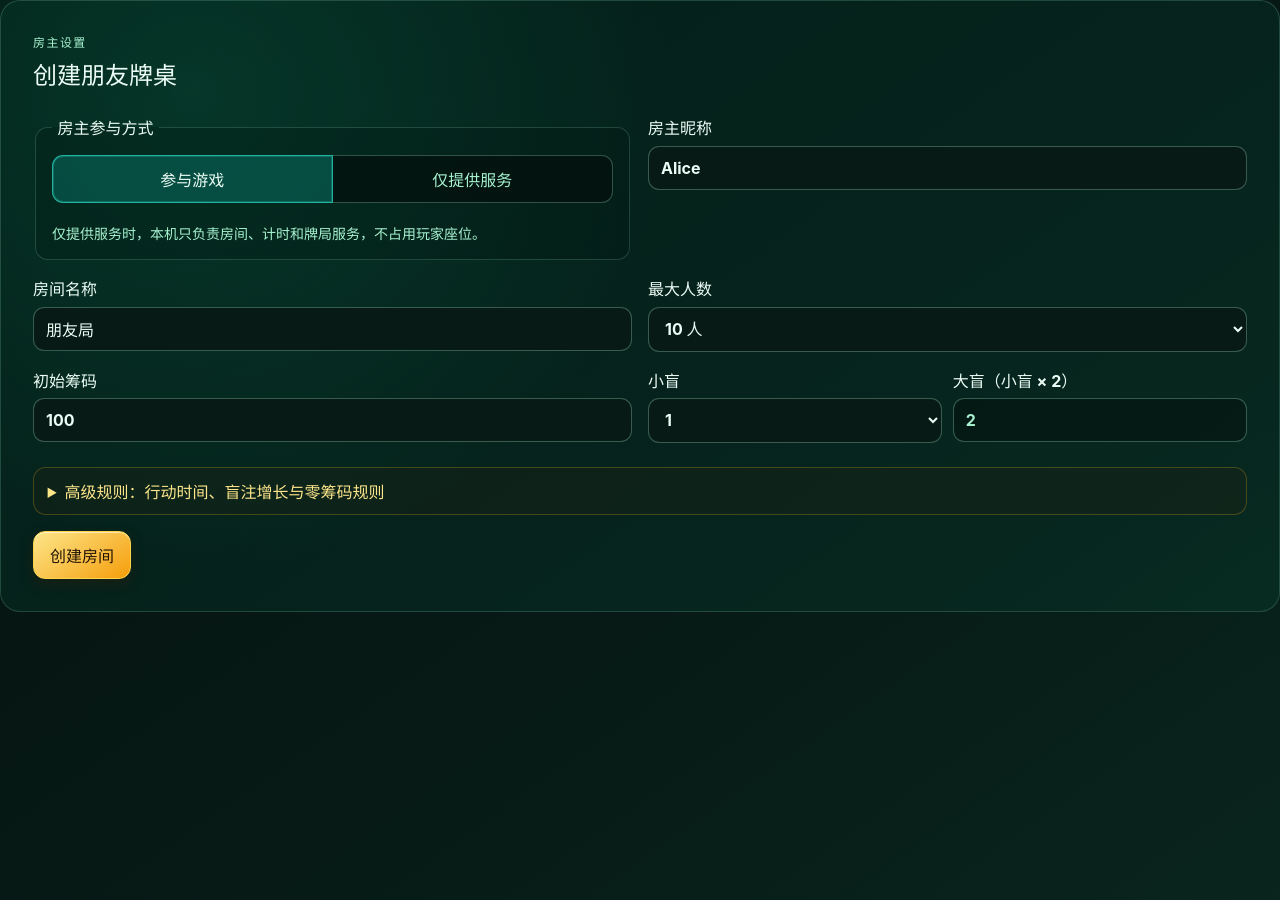
Test: CreateRoomForm › starts at the 1/2 blind tier and keeps the big blind read-only at twice small blind
Expected: the field labelled "大盲（小盲 × 2）" holds "2", top-left (953, 398), bottom-right (1247, 442)
Expected: the element labelled "小盲" is shown, top-left (648, 368), bottom-right (1247, 443)
Select "5" in the dropdown labelled "小盲" at coordinates (795, 420), box top-left (648, 398), bottom-right (942, 443)
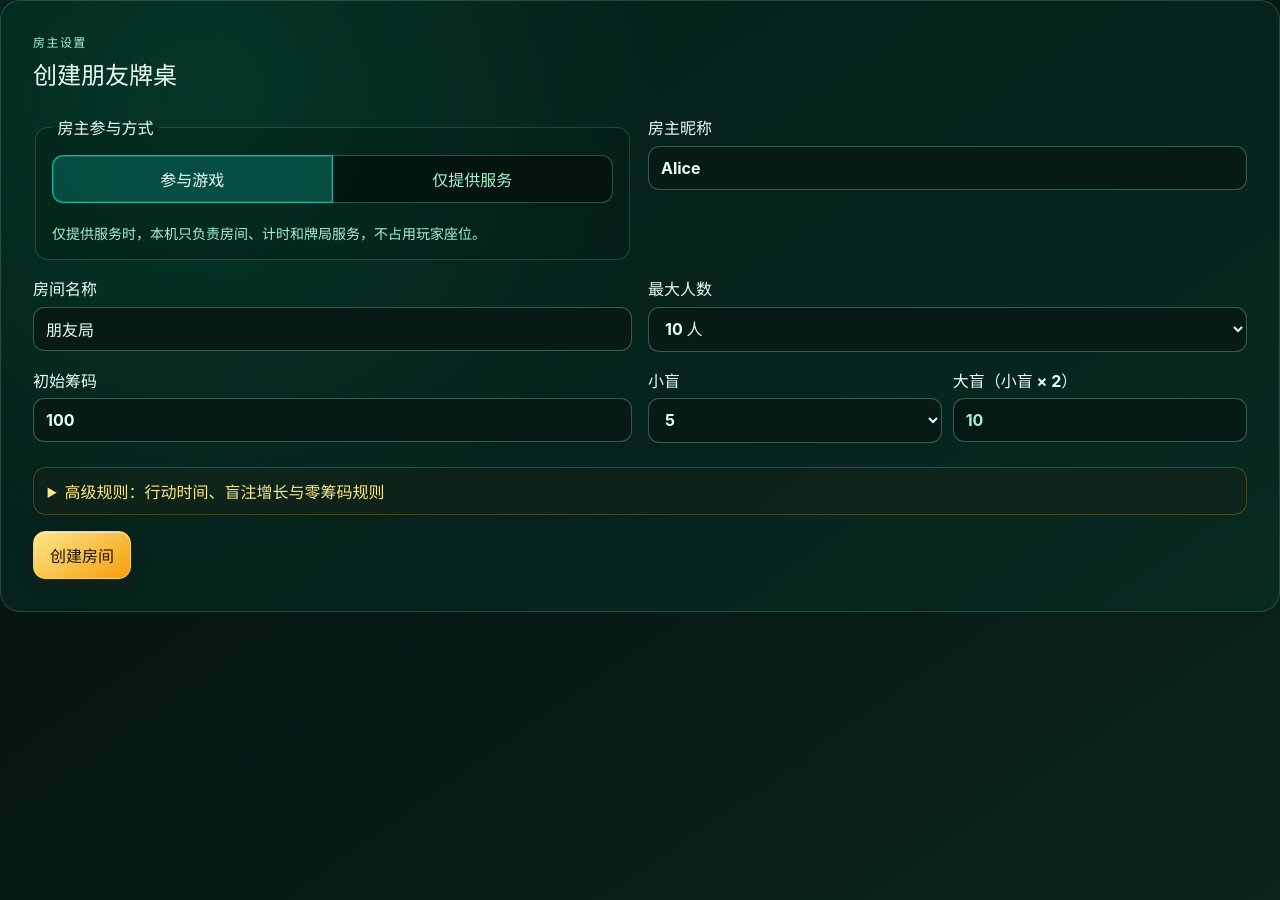
Expected: the field labelled "大盲（小盲 × 2）" holds "10", top-left (953, 398), bottom-right (1247, 442)
